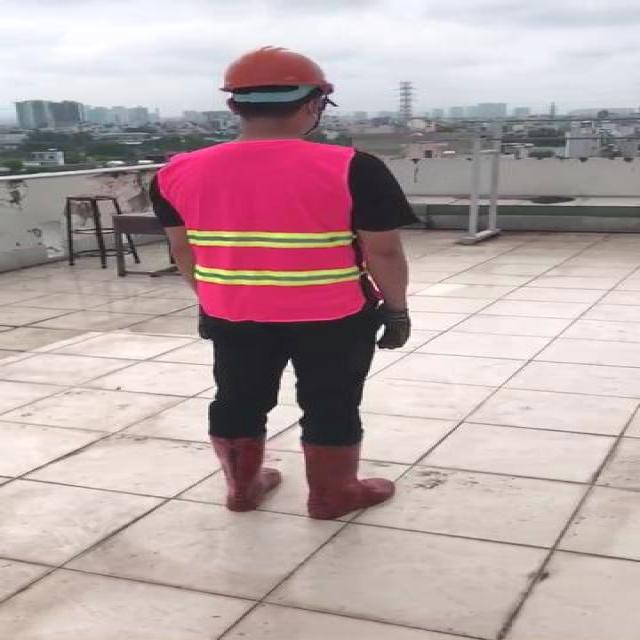boots: (302, 440, 393, 521), (210, 432, 282, 512)
hand_glove: (374, 310, 414, 350), (192, 308, 213, 340)
head_helmet: (222, 39, 341, 94)
person: (130, 37, 442, 543)
vest: (160, 142, 366, 321)
